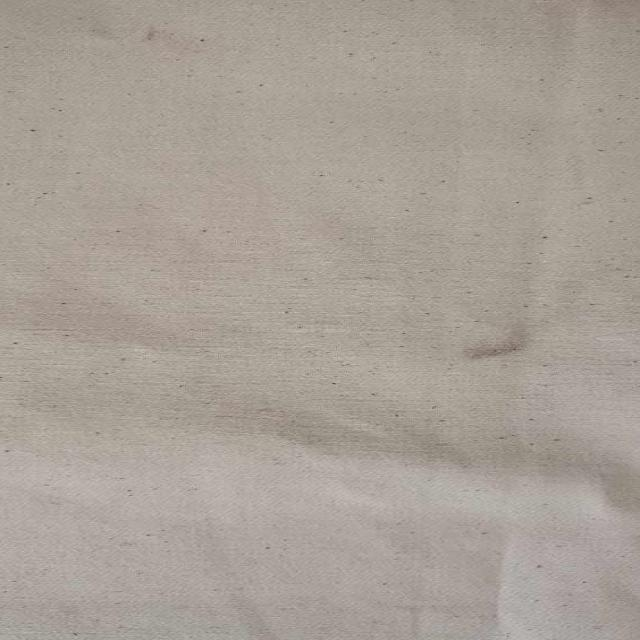taaaches: (438, 315, 556, 370)
